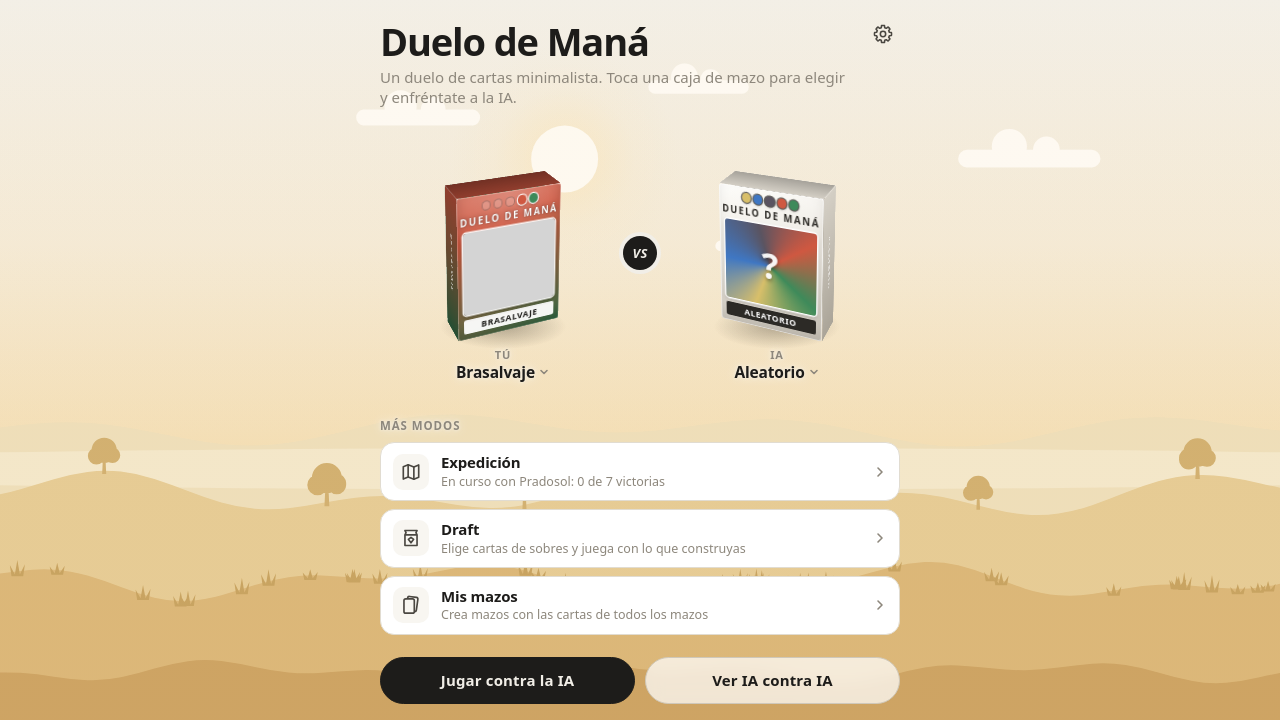
Scenario: starting an expedition › shows the run on the start screen and back on the expedition screen
expect the text with test id "btn-expedition-status" reads "En curso con Pradosol: 0 de 7 victorias": met, box x1=441 y1=473 x2=665 y2=490
Click the button with test id "btn-expedition" at (640, 472), box x1=380 y1=442 x2=900 y2=501
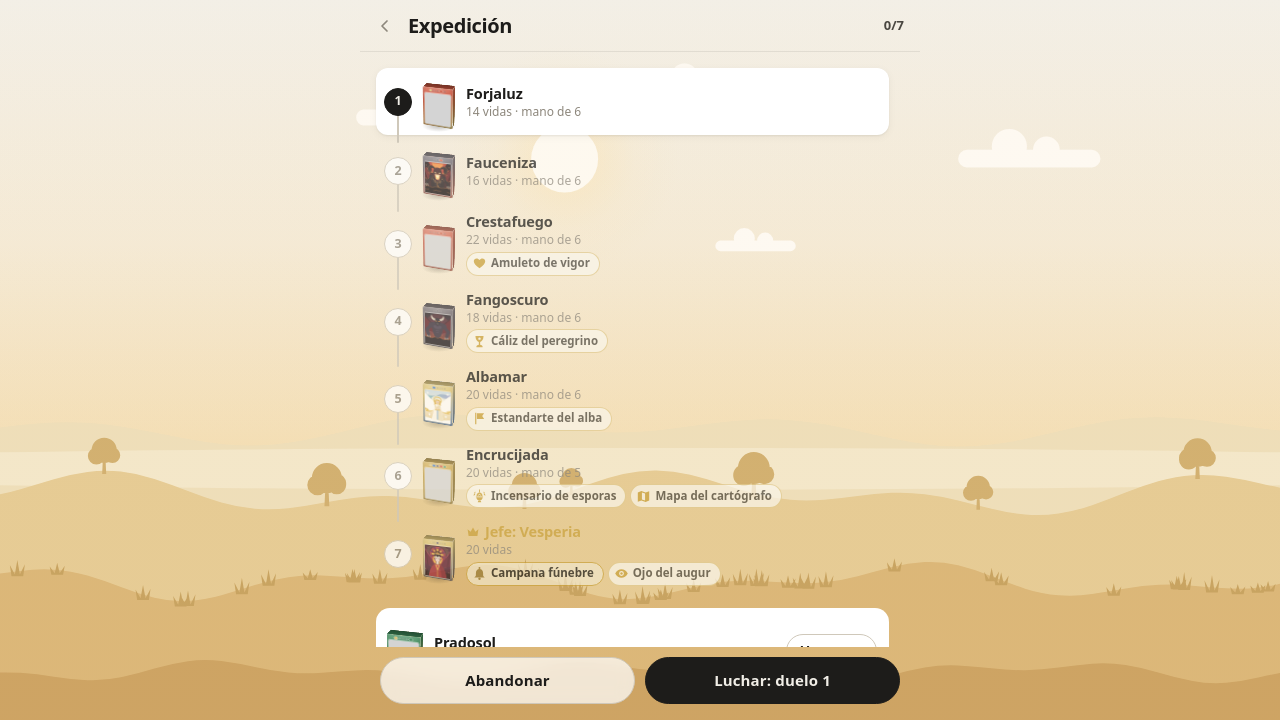
Click the button with test id "btn-expedition-back" at (385, 26), box x1=368 y1=8 x2=402 y2=42
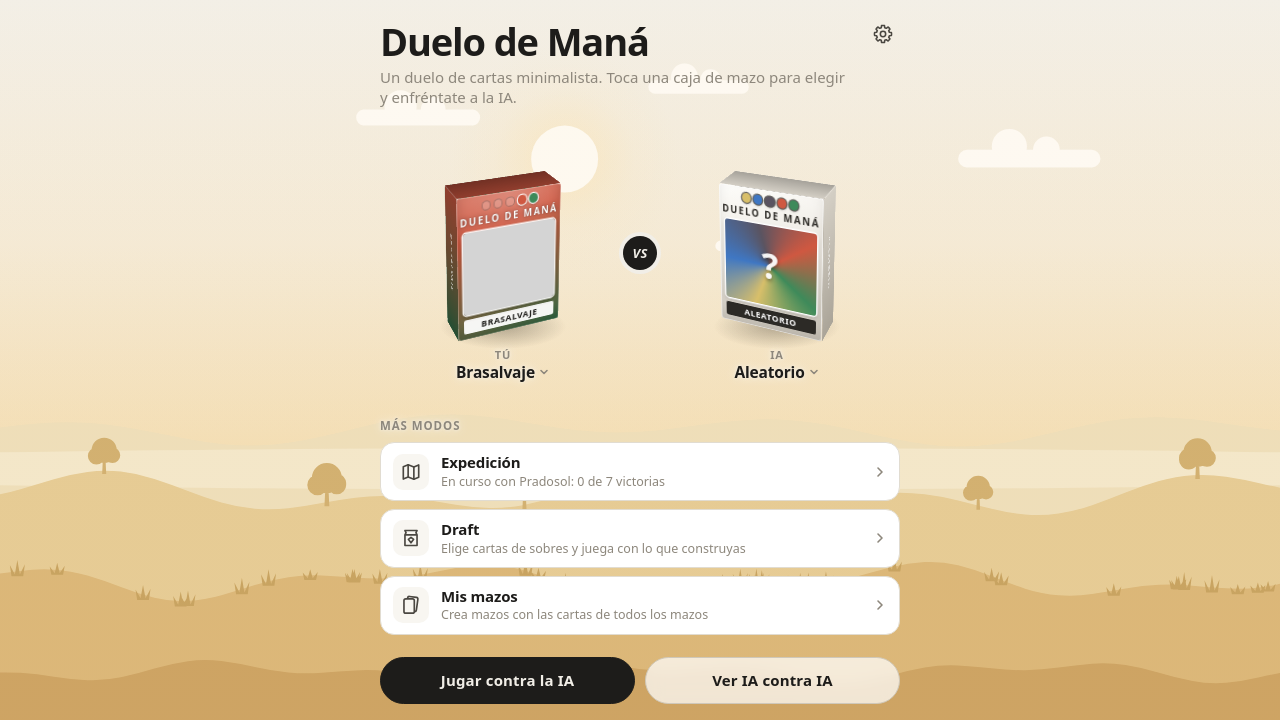
expect the element with test id "start-screen" is shown: met, box x1=360 y1=0 x2=920 y2=719
